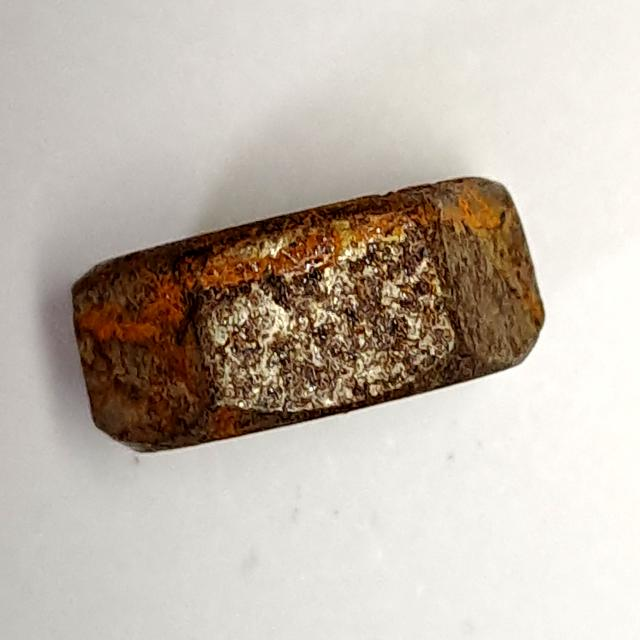Side_Rust: (64, 167, 556, 465)
